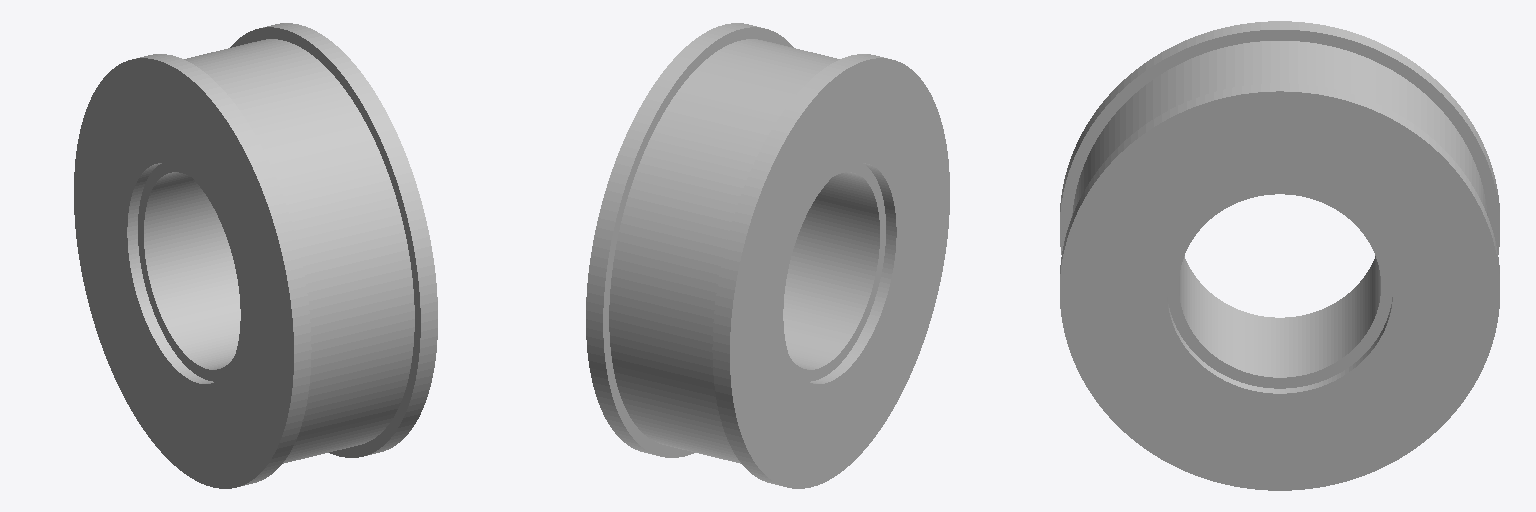
Rendered from Finger Unified Assembly - Finger Joint 1 Idler.obj.
3 views of the same model, side by side, from view 1: azimuth 30°, elevation 25°; view 2: azimuth 150°, elevation 25°; view 3: azimuth 270°, elevation 25° (orthographic).
Parts seen in each view (by area): view 1: mesh6, mesh0, mesh9, mesh2, mesh5, mesh1, mesh10, mesh11; view 2: mesh6, mesh0, mesh9, mesh2, mesh5, mesh1, mesh10, mesh11; view 3: mesh3, mesh0, mesh9, mesh4, mesh8, mesh5, mesh2, mesh7.
Part boxes in pixels (left/top/right/bottom): mesh6: left=74, top=58, right=293, bottom=488; mesh0: left=184, top=39, right=414, bottom=463; mesh9: left=144, top=172, right=240, bottom=369; mesh2: left=263, top=23, right=437, bottom=455; mesh5: left=136, top=54, right=311, bottom=486; mesh1: left=230, top=27, right=420, bottom=457; mesh10: left=127, top=163, right=213, bottom=383; mesh11: left=138, top=163, right=234, bottom=381; mesh6: left=730, top=58, right=949, bottom=488; mesh0: left=609, top=39, right=839, bottom=463; mesh9: left=783, top=172, right=879, bottom=369; mesh2: left=586, top=23, right=760, bottom=455; mesh5: left=712, top=54, right=887, bottom=486; mesh1: left=603, top=27, right=793, bottom=457; mesh10: left=810, top=163, right=896, bottom=383; mesh11: left=789, top=163, right=885, bottom=381; mesh3: left=1060, top=91, right=1499, bottom=490; mesh0: left=1072, top=41, right=1487, bottom=215; mesh9: left=1179, top=256, right=1380, bottom=377; mesh4: left=1060, top=30, right=1499, bottom=254; mesh8: left=1167, top=189, right=1392, bottom=388; mesh5: left=1060, top=21, right=1499, bottom=211; mesh2: left=1060, top=83, right=1499, bottom=273; mesh7: left=1167, top=297, right=1392, bottom=393.
Bounding box in the file's own units: 0.0083 × 0.022 × 0.022.